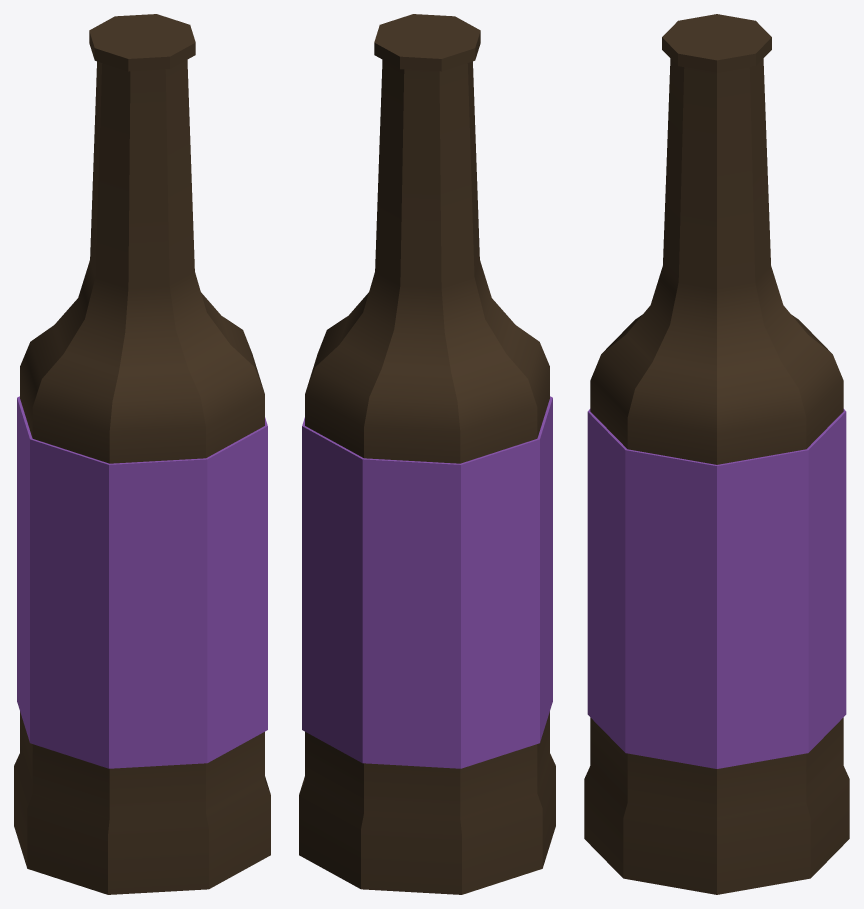
Rendered from soda4.fbx.
The picture shows the model from 3 angles, left to right: view 1: azimuth 30°, elevation 25°; view 2: azimuth 150°, elevation 25°; view 3: azimuth 270°, elevation 25°; orthographic projection.
Visible parts, largest first — view 1: soda_4; view 2: soda_4; view 3: soda_4.
Boxes of the visible parts, x1,y1,x2,y2 form: soda_4: (14,14,270,894); soda_4: (299,14,555,894); soda_4: (584,14,849,894).
Bounding box in the file's own units: 2.1 × 6.99 × 2.1.
